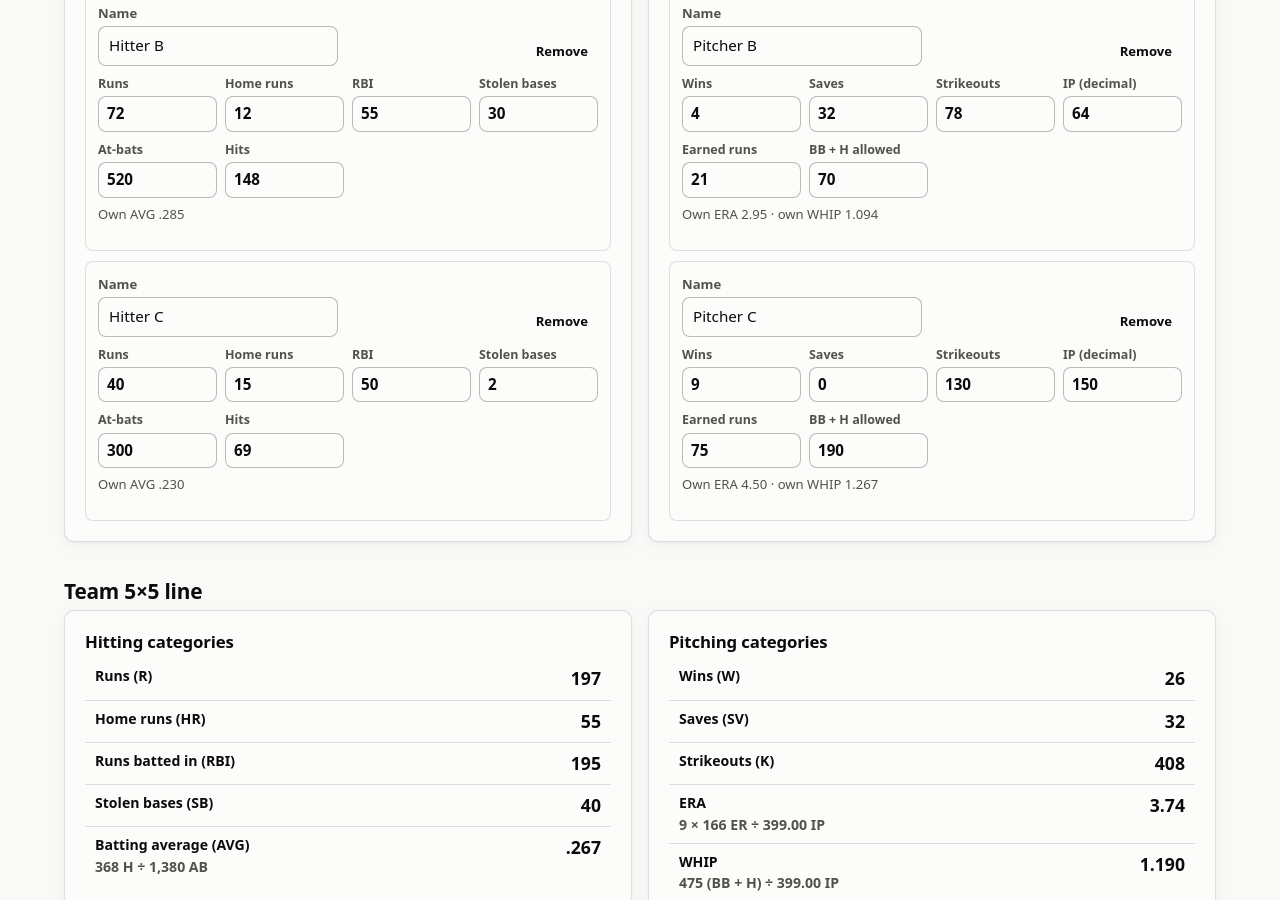
Fantasy Value Lab › computes team AVG/ERA/WHIP from components and updates when inputs change
(page scrolled)
Check: the text ".267" is shown, box [485, 827, 611, 885]
Check: the text "368 H ÷ 1,380 AB" is shown, box [95, 857, 208, 876]
Replace the text in the 2nd number field labelled "At-bats" with "600": coordinates (158, 451) [98, 433, 217, 468]
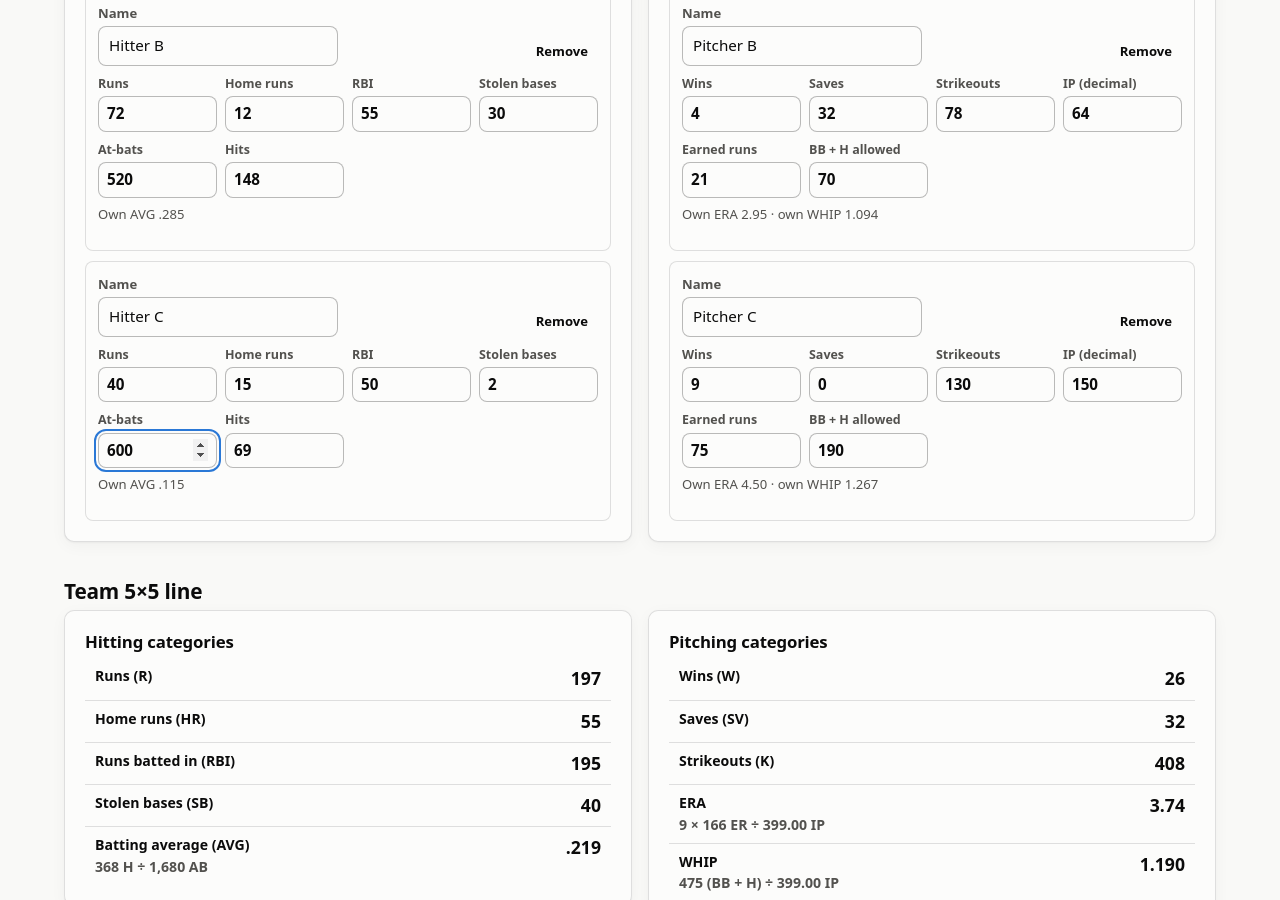
Check: the text ".219" is shown, box [485, 827, 611, 885]
